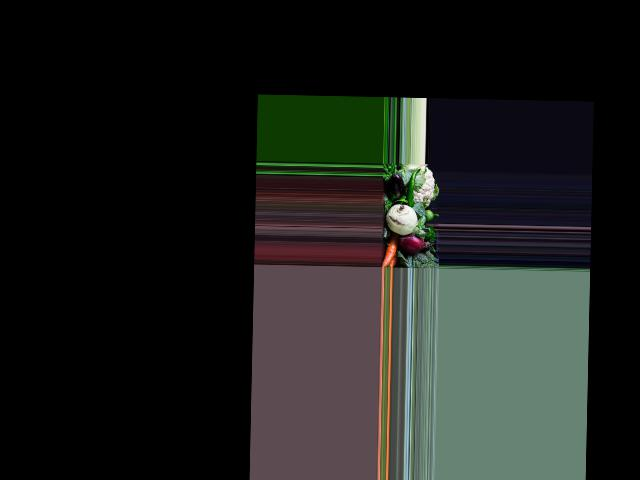carrot: (380, 239, 401, 268)
